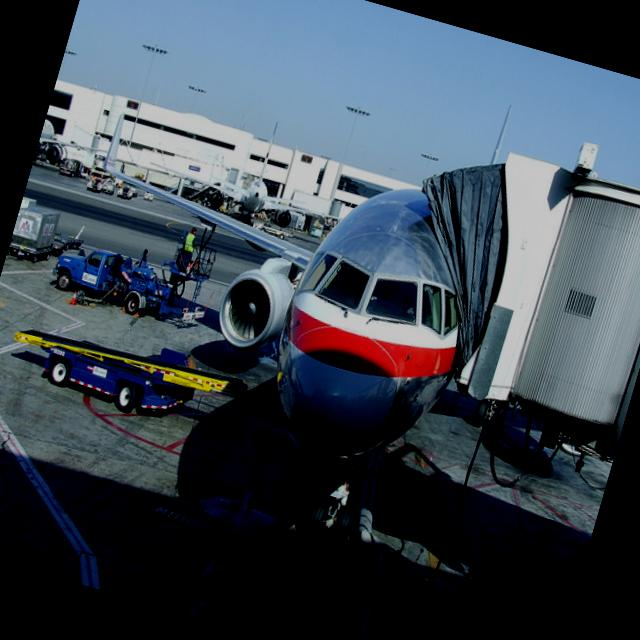Vehicle: (45, 236, 191, 328), (5, 194, 66, 266), (48, 235, 68, 259), (85, 175, 103, 193), (100, 178, 116, 196), (118, 184, 134, 198), (143, 190, 154, 202)
